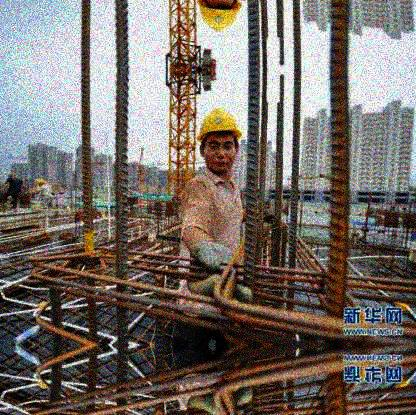helmet: (197, 107, 245, 172), (37, 179, 45, 186), (9, 173, 16, 177)
